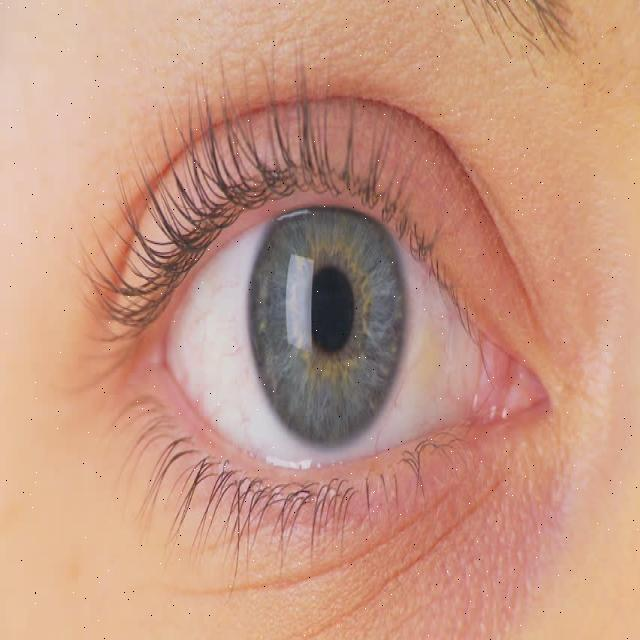Normal: (3, 1, 637, 636)
